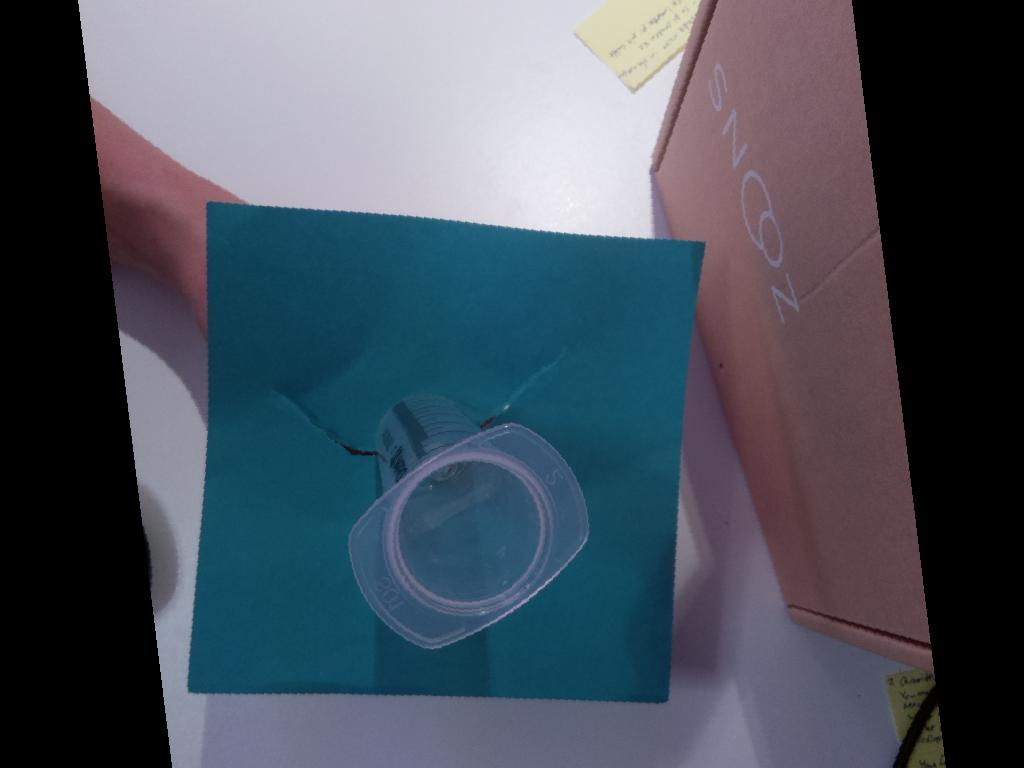clean: (346, 419, 594, 651)
